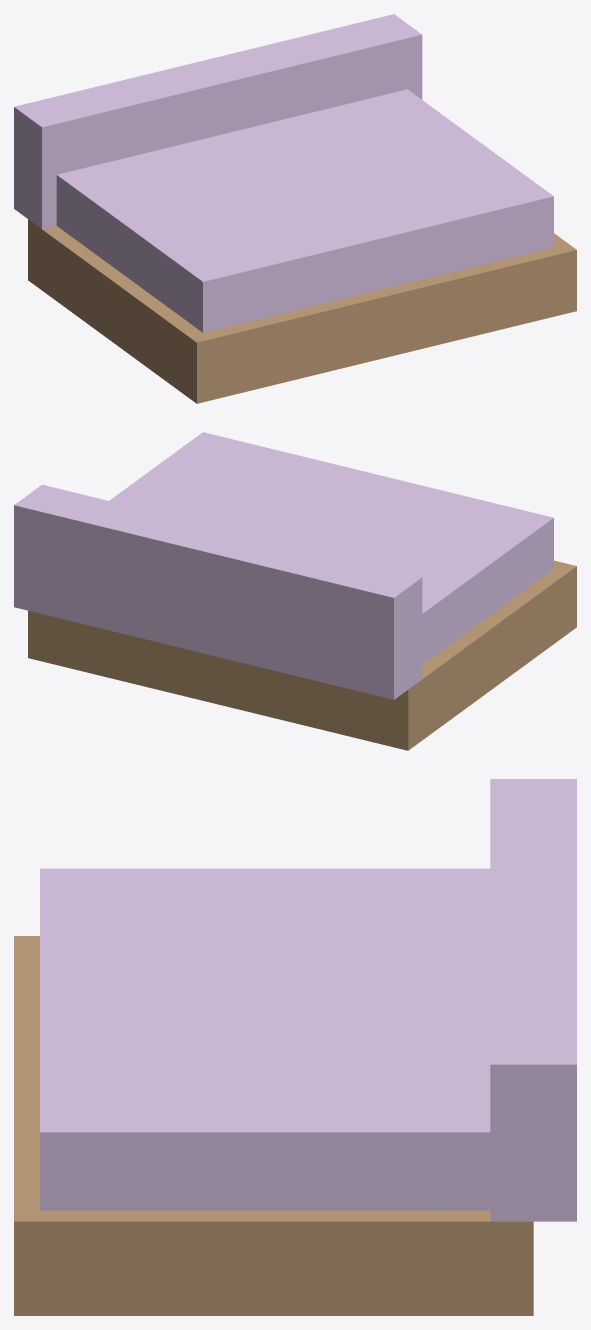
The model's file is Prop_Pet_AMF_Bed_V19.glb.
3 renders of one model, top to bottom at view 1: azimuth 30°, elevation 25°; view 2: azimuth 150°, elevation 25°; view 3: azimuth 270°, elevation 25°, orthographic. The views are drawn at different scales.
Visible parts, largest first — view 1: Prop_Pet_AMF_Bed_V19; view 2: Prop_Pet_AMF_Bed_V19; view 3: Prop_Pet_AMF_Bed_V19.
Part boxes in pixels (left/top/right/bottom): Prop_Pet_AMF_Bed_V19: left=14, top=14, right=576, bottom=403; Prop_Pet_AMF_Bed_V19: left=14, top=432, right=576, bottom=750; Prop_Pet_AMF_Bed_V19: left=14, top=779, right=576, bottom=1315.
Size of the model in its own units: 0.78 by 0.32 by 0.65.
